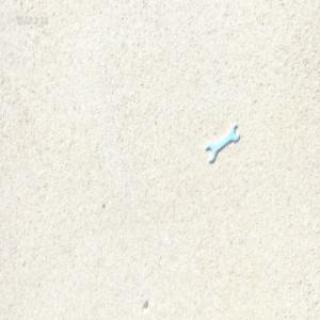Wrenchtrack_idkeyframe: (205, 123, 238, 161)
